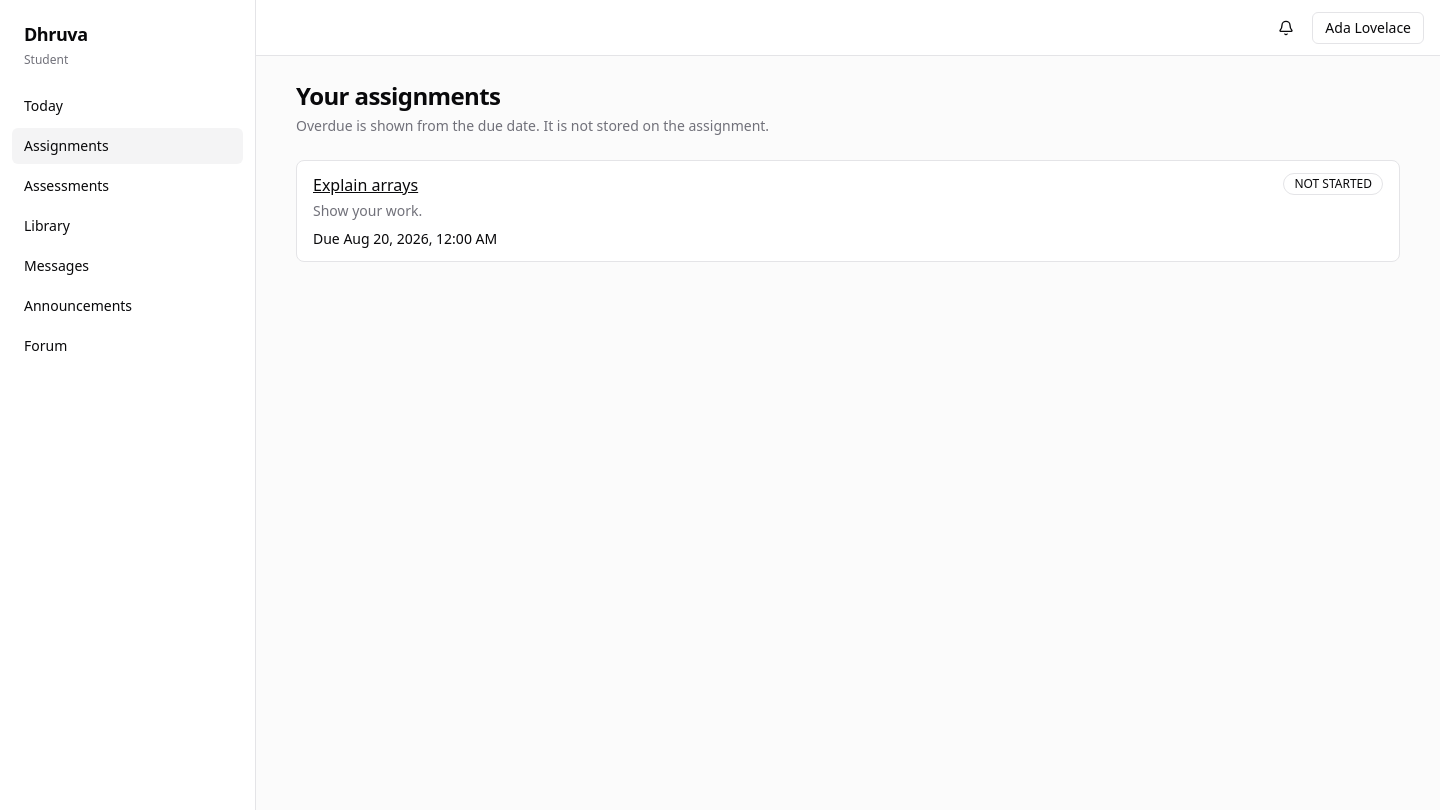
Test: submission page › starts an assignment and stores the answer as a revision
Click the link "Explain arrays" at (366, 185), box [313, 174, 418, 196]
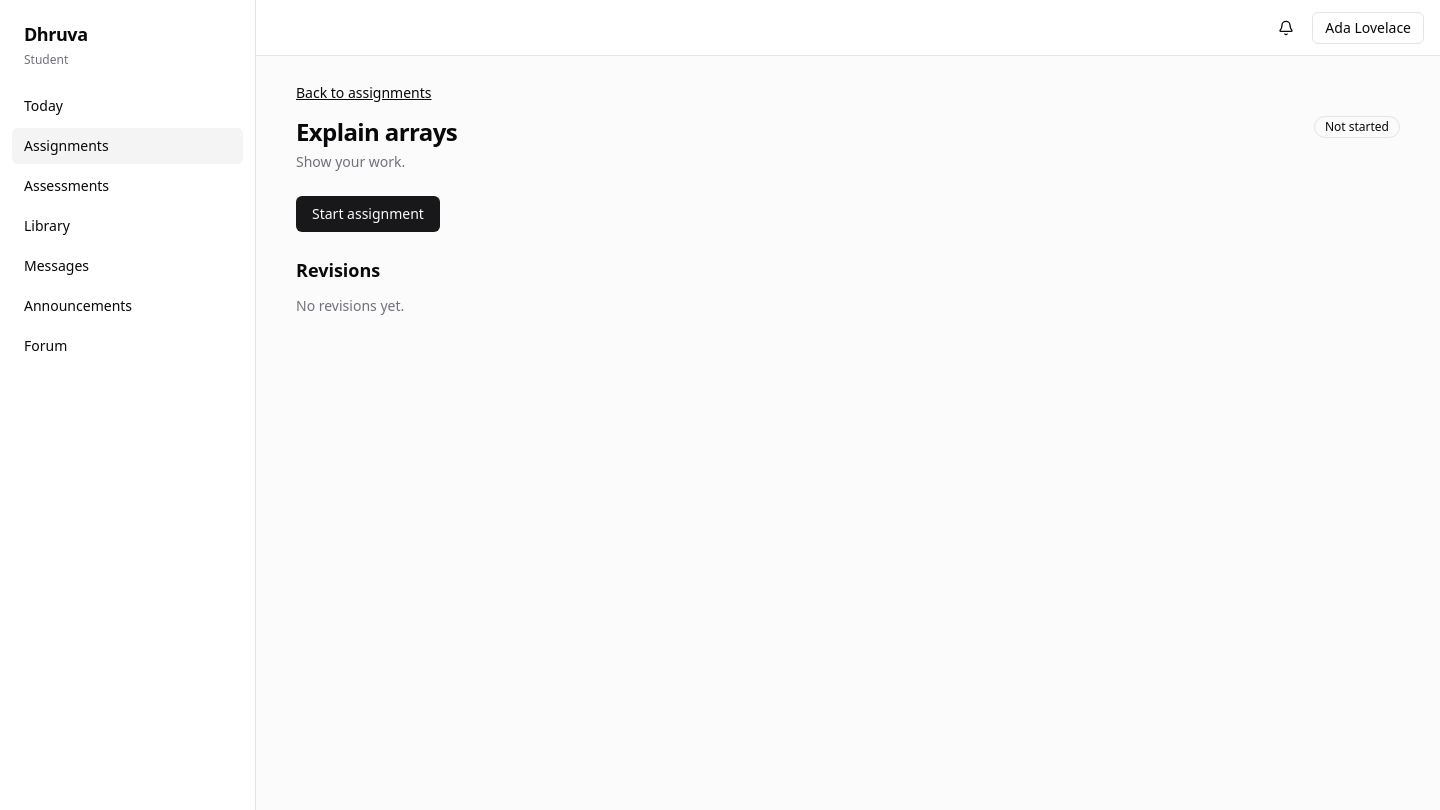
Click the button "Start assignment" at (368, 214), box [296, 196, 440, 232]
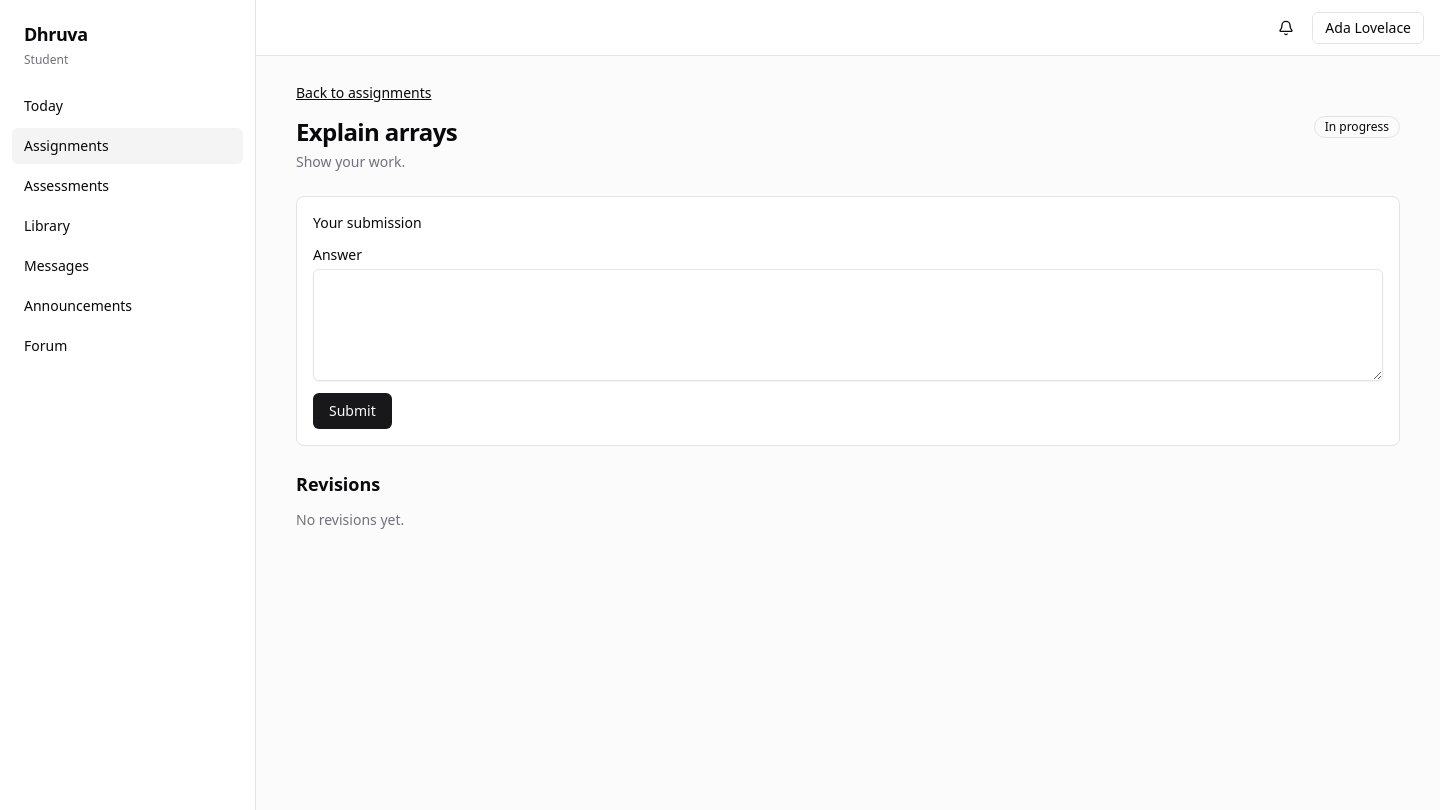
Type "An array stores values by index." into the text box labelled "Answer" at (848, 325), box [313, 269, 1383, 381]
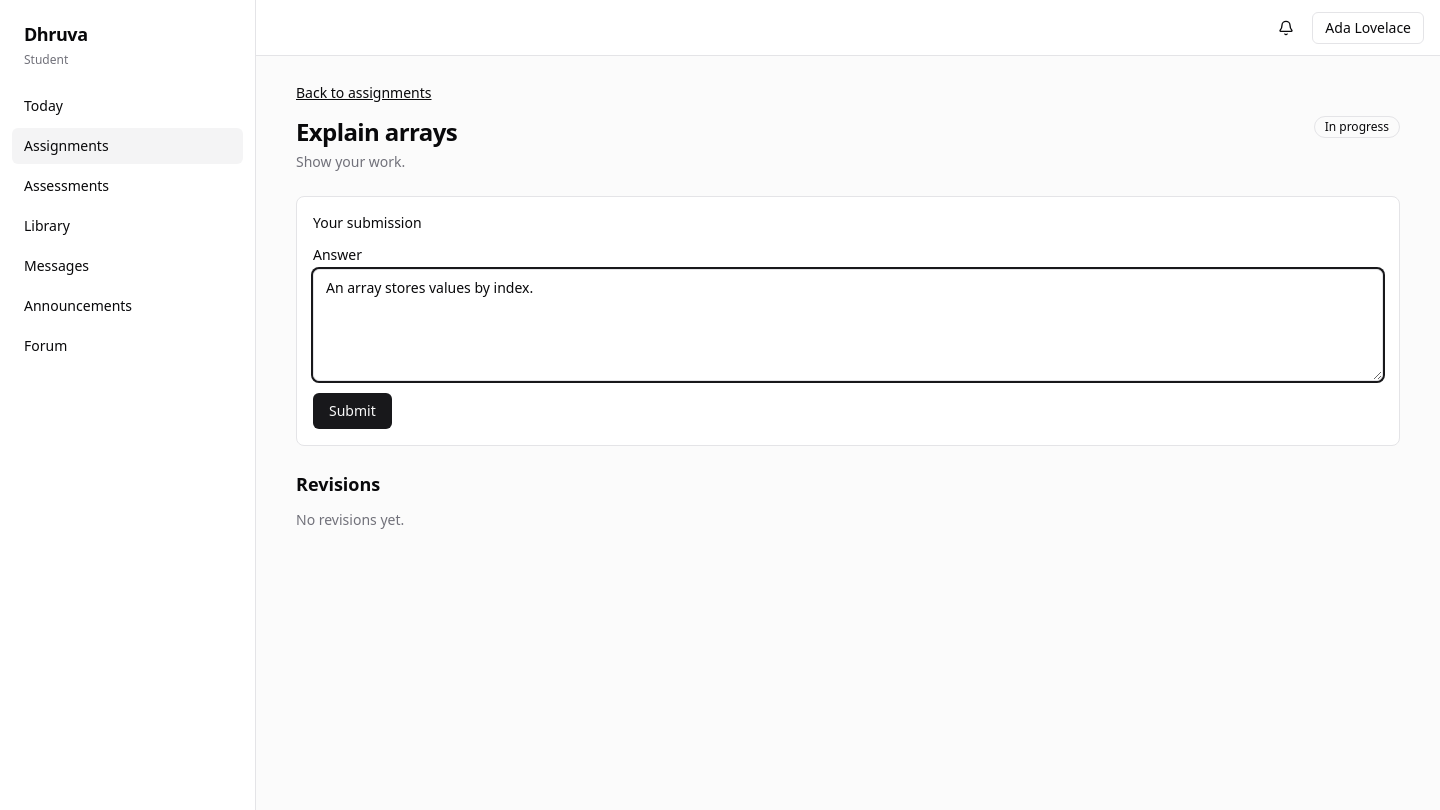
Click the button "Submit" at (352, 411), box [313, 393, 392, 429]
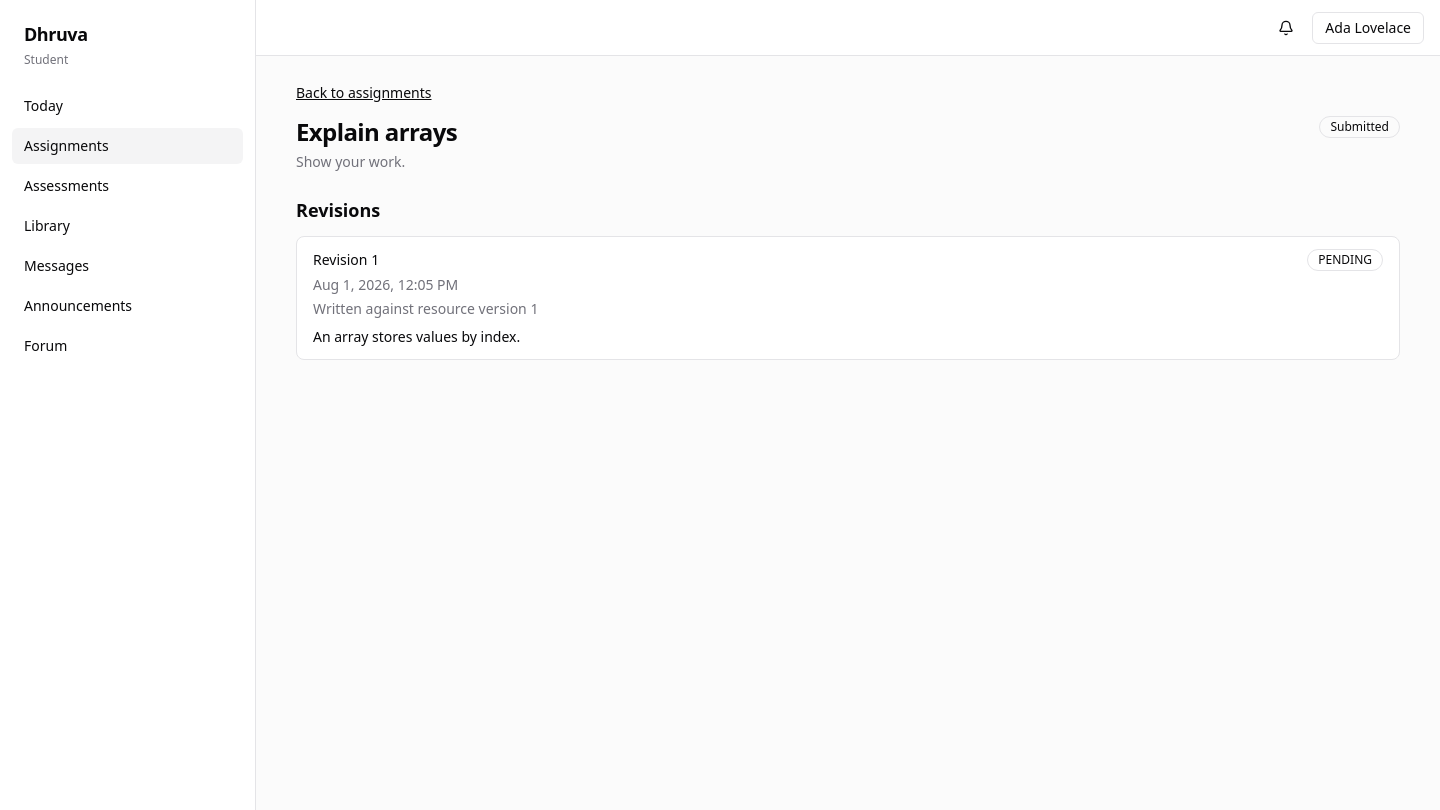
Check: the text "An array stores values by index." is shown, box [313, 327, 520, 346]
Check: the text "Submitted" is shown, box [1320, 116, 1400, 138]
Check: the text "Written against resource version 1" is shown, box [313, 299, 538, 318]
